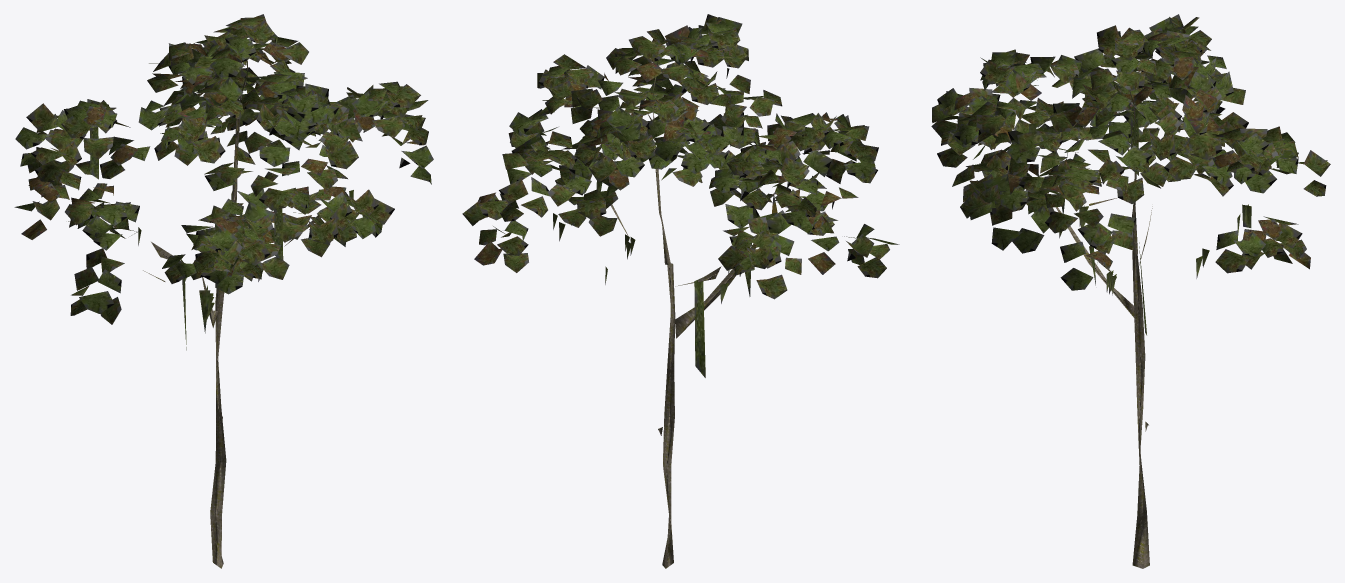
File: jungle-trumpet-a-map.glb
3 views of the same model, side by side, from view 1: azimuth 30°, elevation 25°; view 2: azimuth 150°, elevation 25°; view 3: azimuth 270°, elevation 25° (orthographic). The views are drawn at different scales.
Visible parts, largest first — view 1: LOD0; view 2: LOD0; view 3: LOD0.
Part boxes in pixels (<box>): LOD0: <box>14,14,433,568</box>; LOD0: <box>462,14,899,568</box>; LOD0: <box>931,14,1330,568</box>.
Bounding box in the file's own units: 12.7 × 17.3 × 11.56.
1 material, 1 textured.
